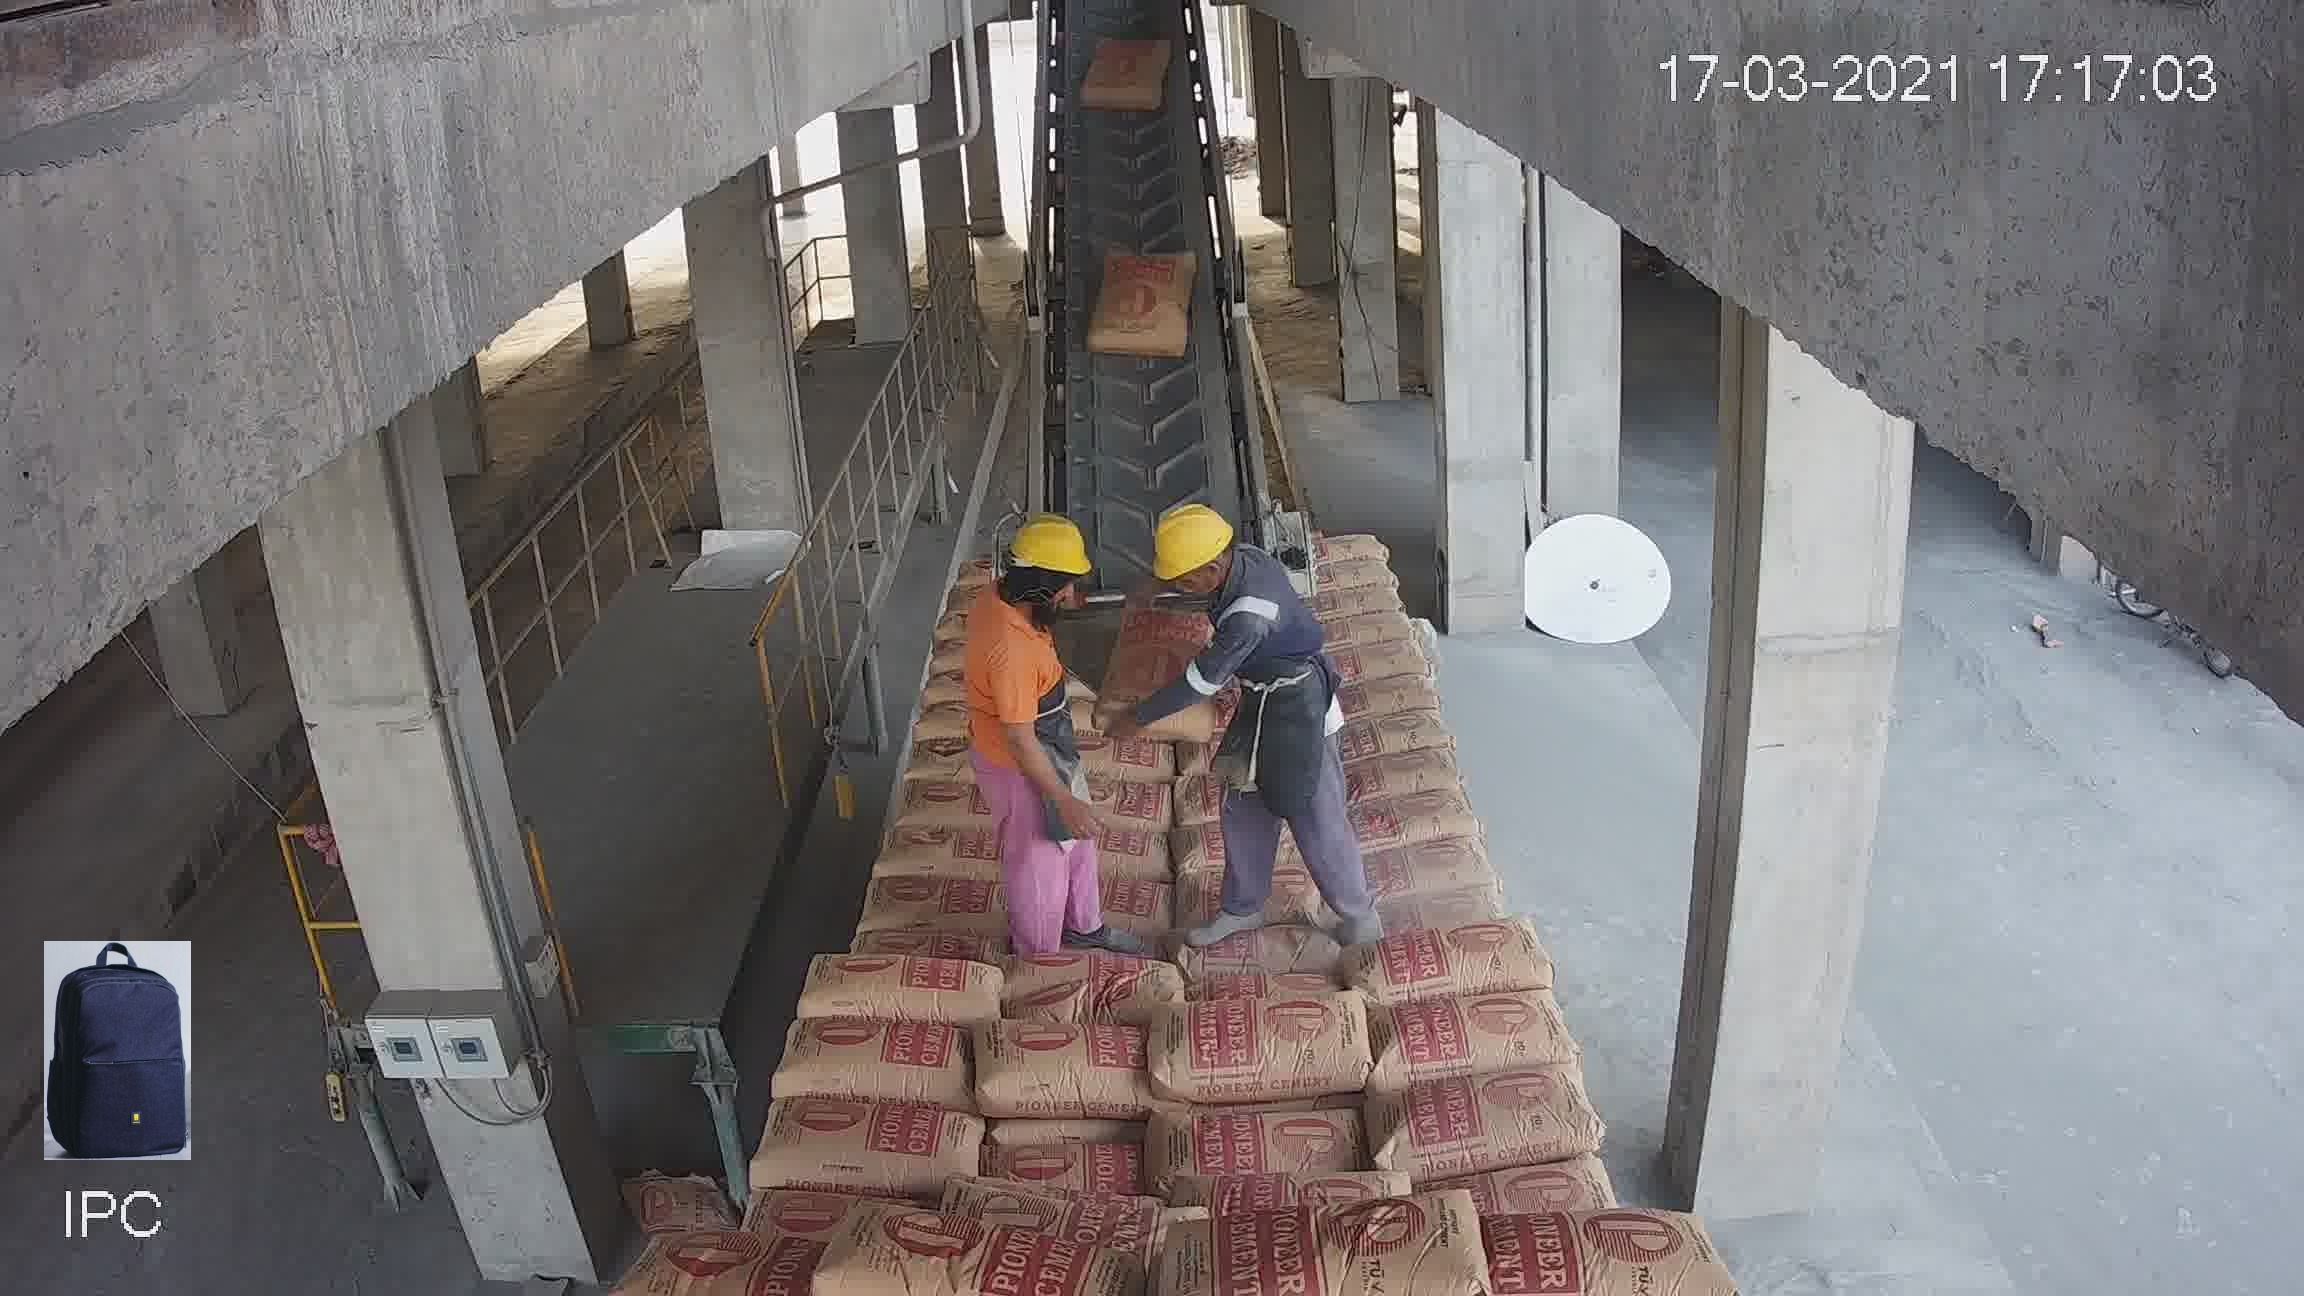bag_h: (1198, 1203, 1530, 1294), (805, 1204, 1135, 1296), (1157, 994, 1383, 1109), (1362, 1068, 1609, 1171), (752, 1095, 987, 1199), (1367, 981, 1571, 1098), (1462, 1203, 1707, 1290), (1353, 918, 1551, 1017), (1144, 1098, 1367, 1185), (1418, 1135, 1612, 1230), (766, 1014, 983, 1098), (972, 1022, 1147, 1124), (802, 949, 1019, 1027), (641, 1225, 839, 1294), (1179, 915, 1348, 981), (866, 873, 1014, 942), (1348, 785, 1483, 856), (984, 1143, 1157, 1196), (1369, 834, 1495, 907), (873, 821, 1011, 885), (1342, 745, 1470, 804), (1331, 711, 1461, 760), (1320, 627, 1424, 687), (1071, 774, 1174, 832), (885, 777, 984, 837), (1332, 673, 1442, 723), (1304, 549, 1412, 600), (1302, 521, 1389, 568), (1313, 585, 1407, 625)
bag_v: (1100, 593, 1225, 744), (1087, 245, 1199, 370), (1082, 36, 1171, 117)
belt: (1014, 6, 1263, 641)
